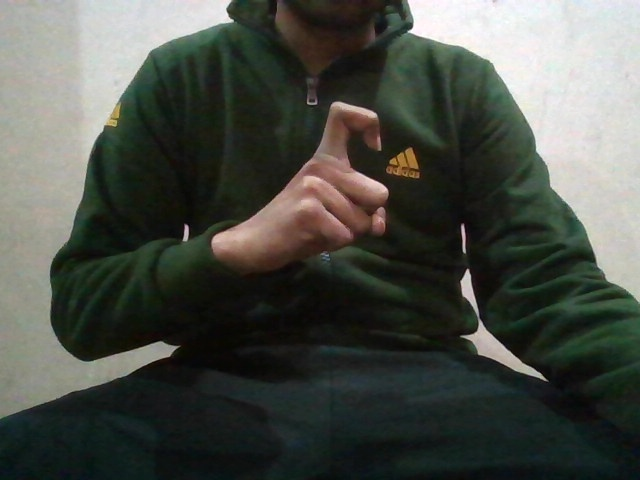P: (280, 97, 386, 261)
